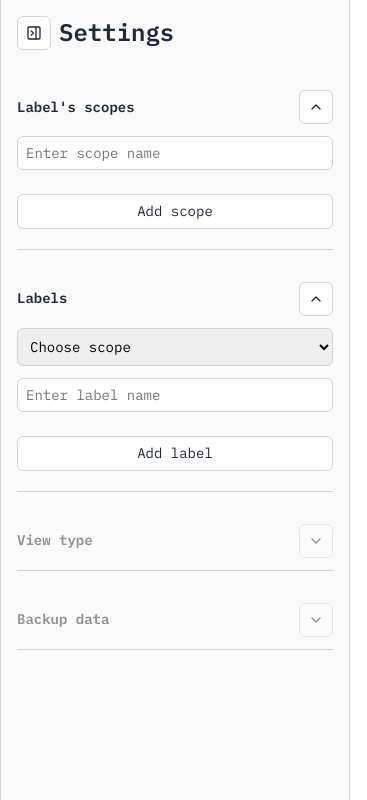
Test: BaseSettings › should render change view type buttons
Click the button titled "Collapse/Expand" in the row of "View type": (316,541) [299,524,333,558]
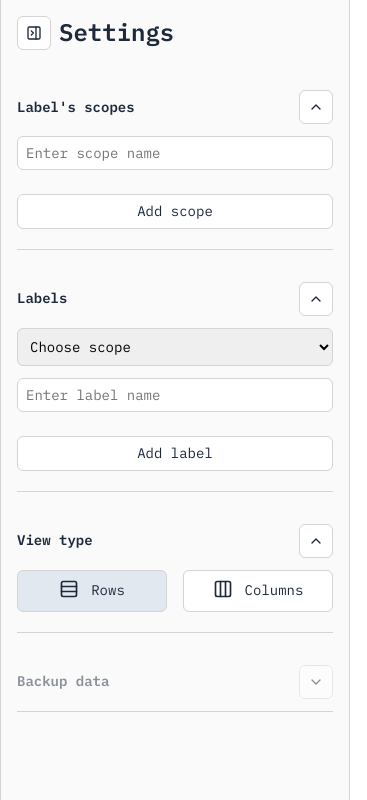
Expected: the button with test id "view-type-rows-button" is shown, [17,570,167,612]
Expected: the button with test id "view-type-columns-button" is shown, [183,570,333,612]
